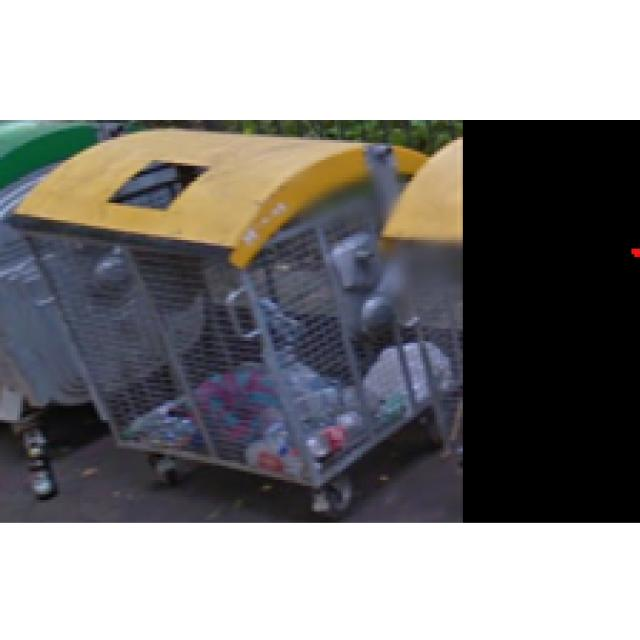plastic trash bin: (26, 133, 398, 510)
